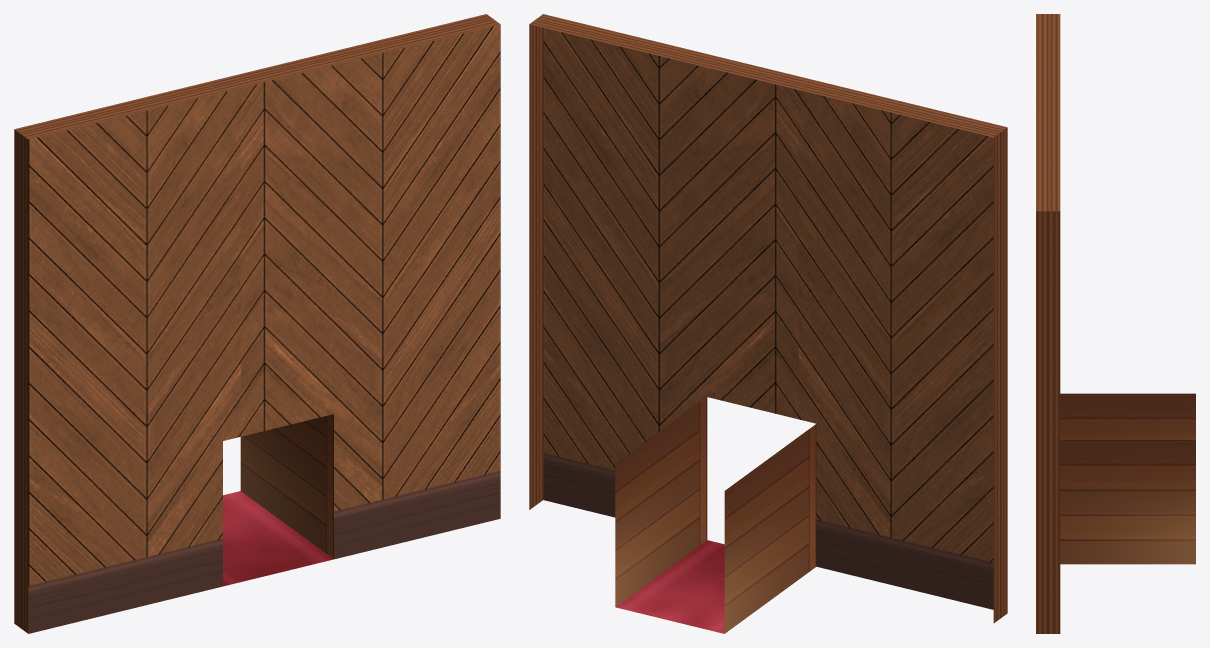
The model's file is corridor_wall_tile_door.FBX.
The picture shows the model from 3 angles, left to right: view 1: azimuth 30°, elevation 25°; view 2: azimuth 150°, elevation 25°; view 3: azimuth 270°, elevation 25°; orthographic projection. The views are drawn at different scales.
Parts seen in each view (by area): view 1: Box003; view 2: Box003; view 3: Box003.
Boxes of the visible parts, left/top/right/bottom form: Box003: left=14, top=14, right=500, bottom=633; Box003: left=529, top=14, right=1007, bottom=633; Box003: left=1036, top=14, right=1195, bottom=633.
Size of the model in its own units: 1912 by 1913 by 656.
Materials: 1 (1 with a texture image).
